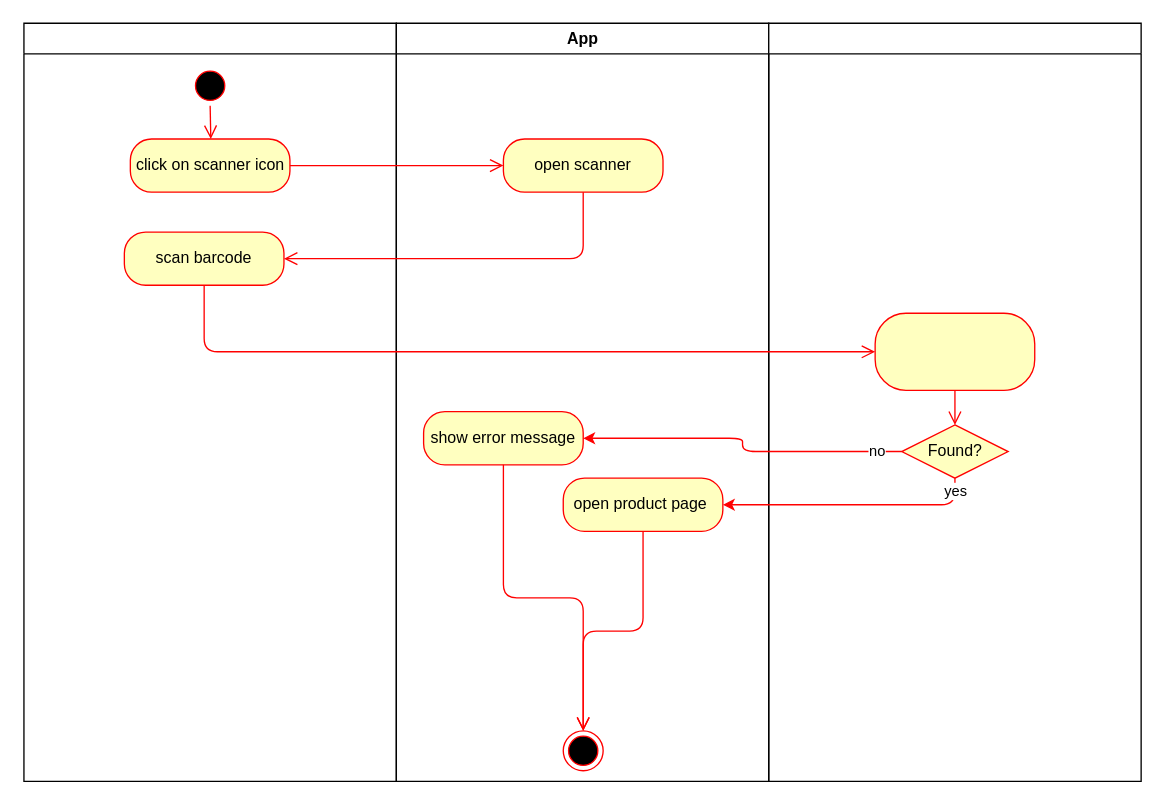
Image size: 1164x805. Some labels were removed from this diagram. Here are the shapes that lost their labels. From the top down, the box of each, then its label:
(874, 312, 1035, 390): fetch product matching to barcode
(23, 22, 396, 781): User
(767, 22, 1141, 781): Firebase
